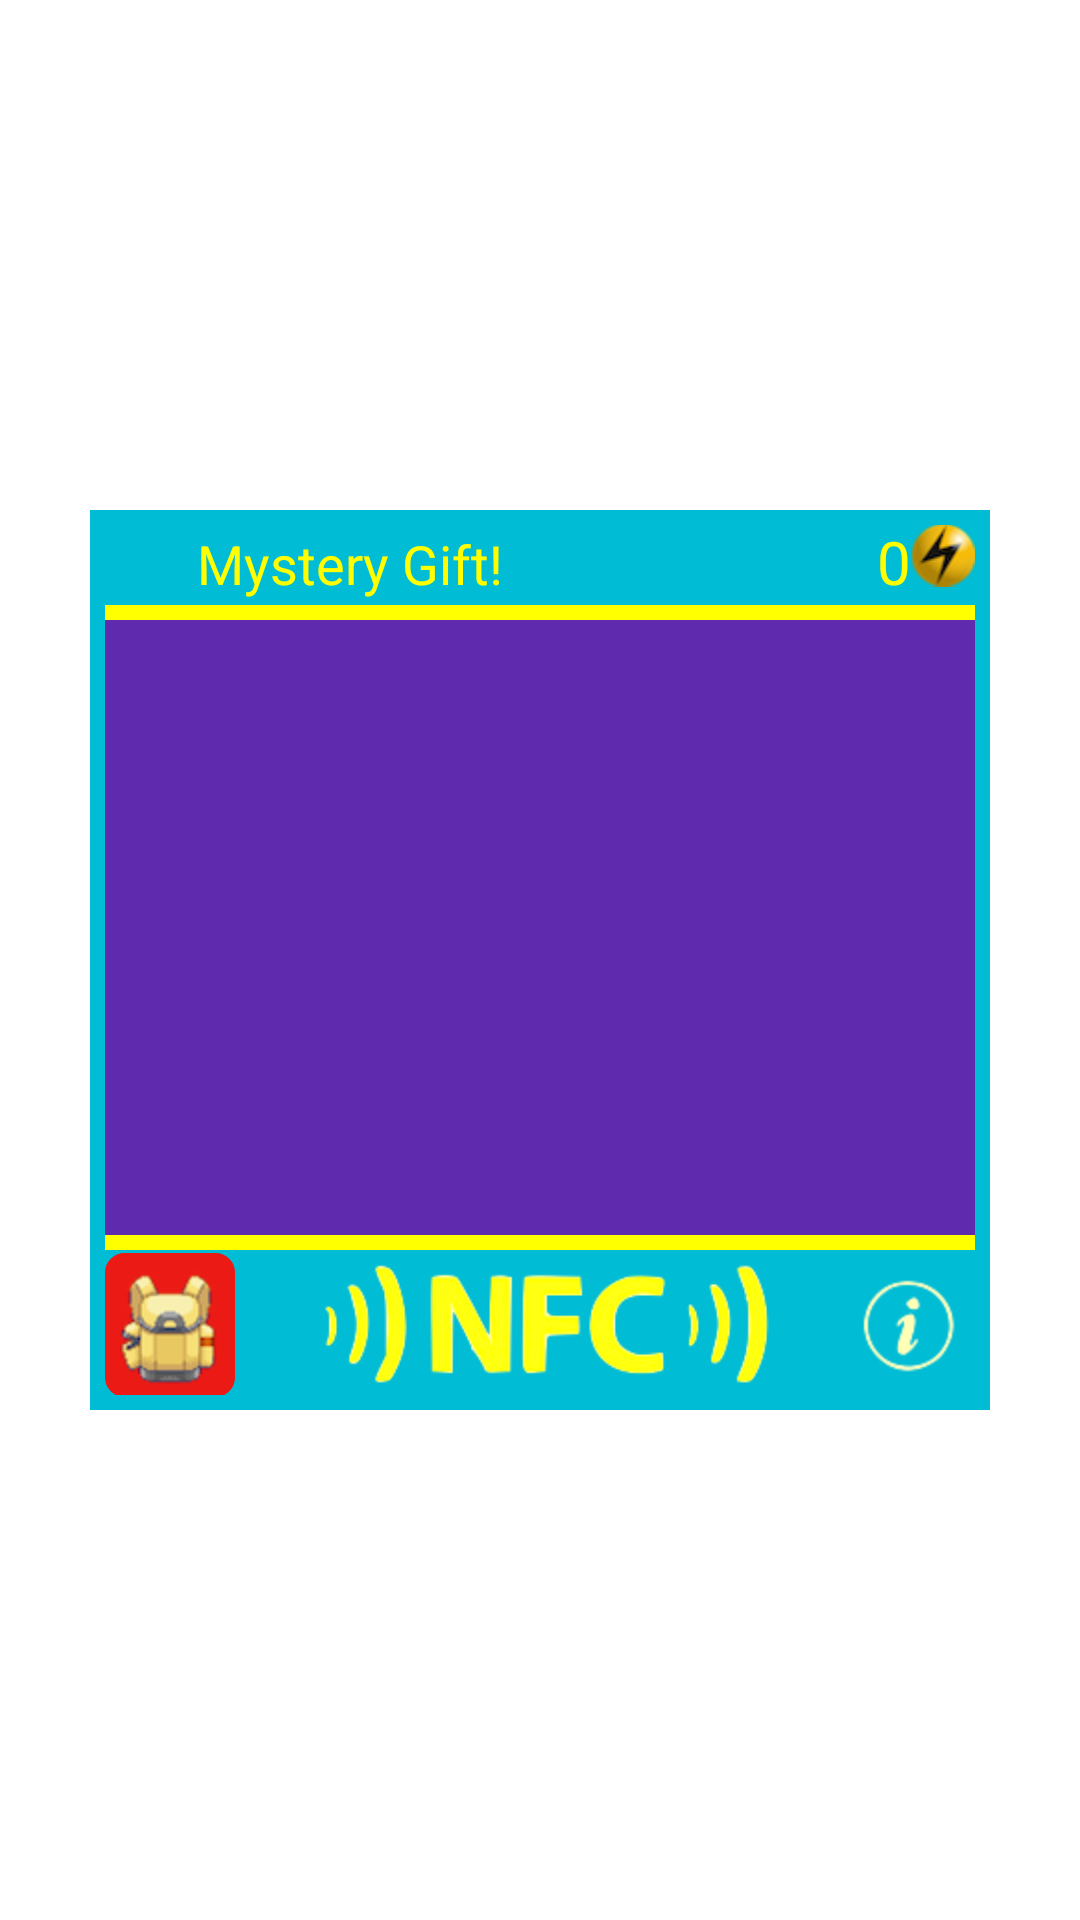

Named icons in this screenshot (1080x1920) and their bounding boxes, (x1=x1, y1=y1, x2=x2, y2=y2):
bag: (x1=105, y1=1253, x2=235, y2=1395)
info: (x1=863, y1=1280, x2=955, y2=1372)
thunder: (x1=911, y1=525, x2=975, y2=587)
